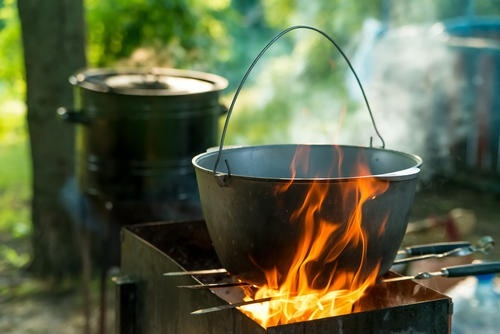fire: (240, 141, 389, 325)
